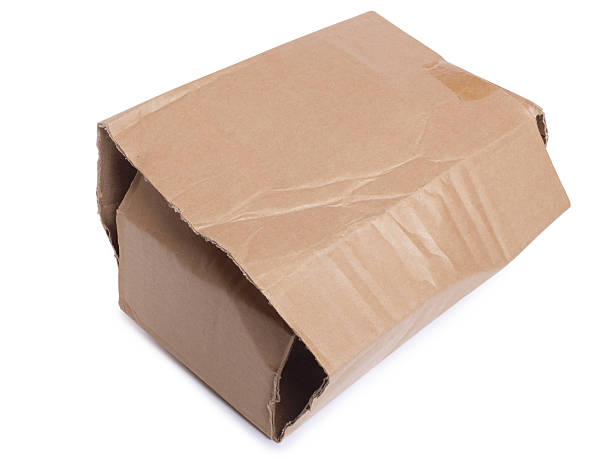damaged package: (147, 184, 279, 310), (89, 136, 138, 258), (277, 338, 324, 447)
